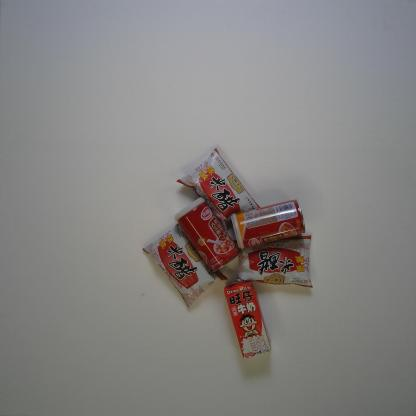Canned Food: (174, 197, 239, 273), (231, 199, 306, 250)
Milk: (223, 280, 272, 360)
Seasoner: (141, 223, 228, 308), (175, 148, 262, 232), (234, 233, 314, 288)
